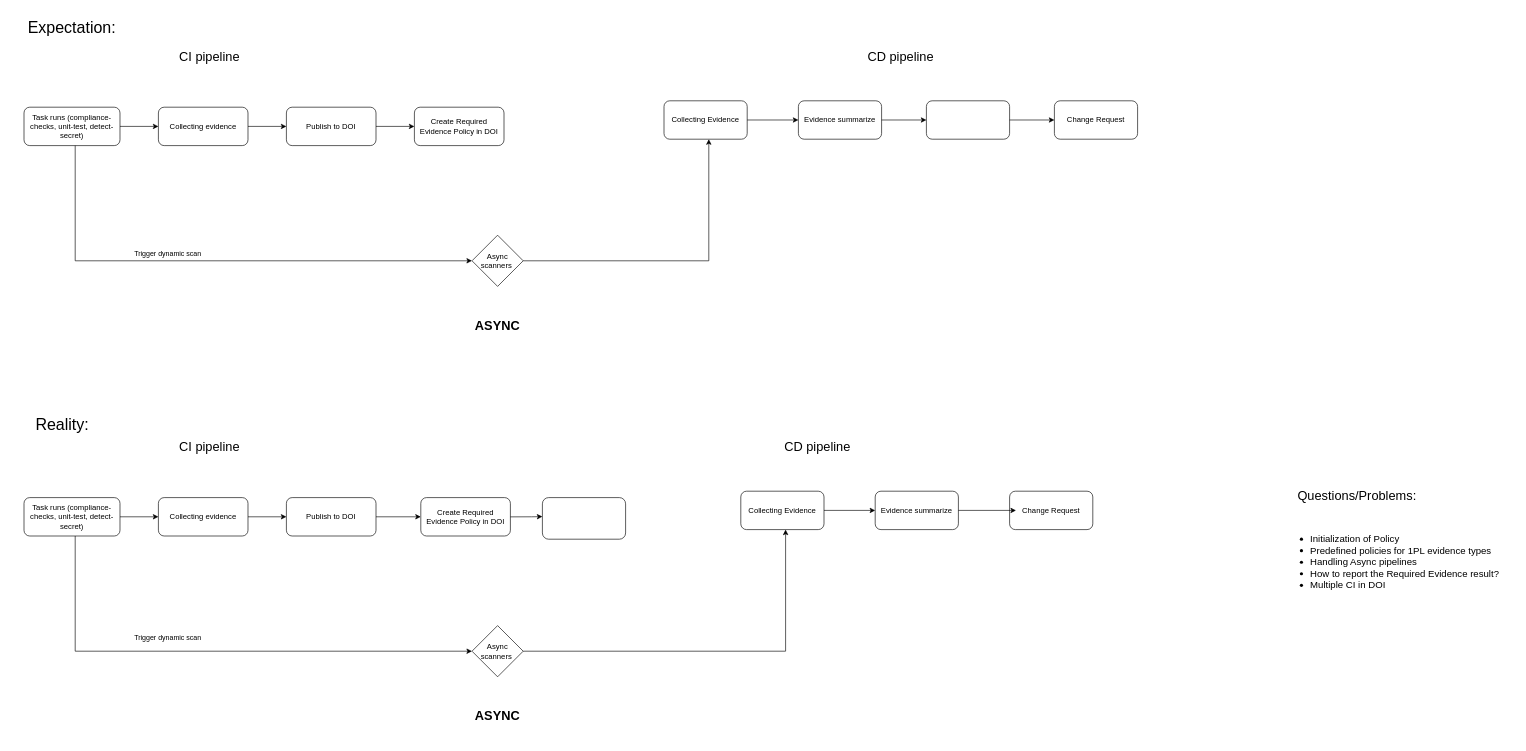
Some shapes in this 1526 by 751 pixel diagram are drawn without their labels. Each missing label, with the centre of its shape:
DOI gate evaluation: point 968,119
DOI policy evaluation: point 584,518
